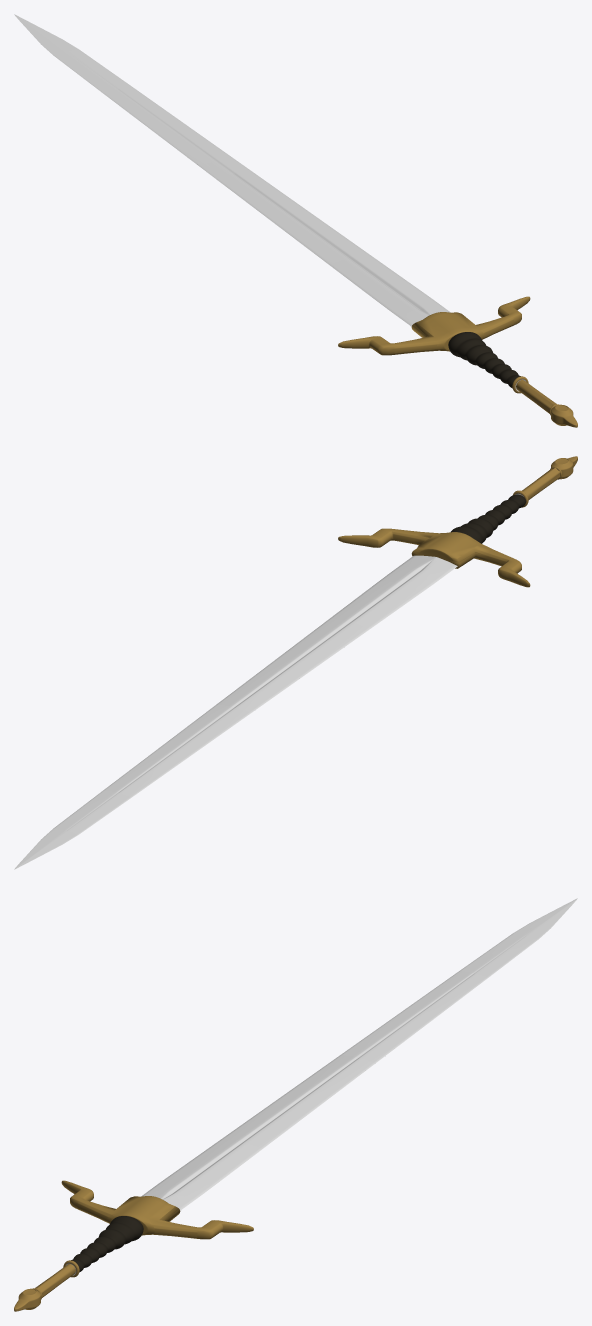
File: Sword.fbx
3 views of the same model, one above another, from view 1: azimuth 30°, elevation 25°; view 2: azimuth 150°, elevation 25°; view 3: azimuth 330°, elevation 25° (orthographic).
Parts seen in each view (by area): view 1: Blade, Guard, Hundle, Cylinder.002; view 2: Blade, Guard, Hundle; view 3: Blade, Guard, Hundle, Cylinder.002.
Part boxes in pixels (x1,y1,x2,y2): Blade: (14, 14, 450, 326); Guard: (338, 296, 530, 355); Hundle: (448, 332, 520, 388); Cylinder.002: (516, 380, 556, 413); Blade: (14, 555, 457, 869); Guard: (338, 528, 530, 587); Hundle: (451, 494, 526, 543); Blade: (141, 898, 577, 1210); Guard: (61, 1180, 253, 1239); Hundle: (71, 1216, 143, 1272); Cylinder.002: (35, 1264, 75, 1297).
Size of the model in its own units: 2240 by 257 by 11365.
